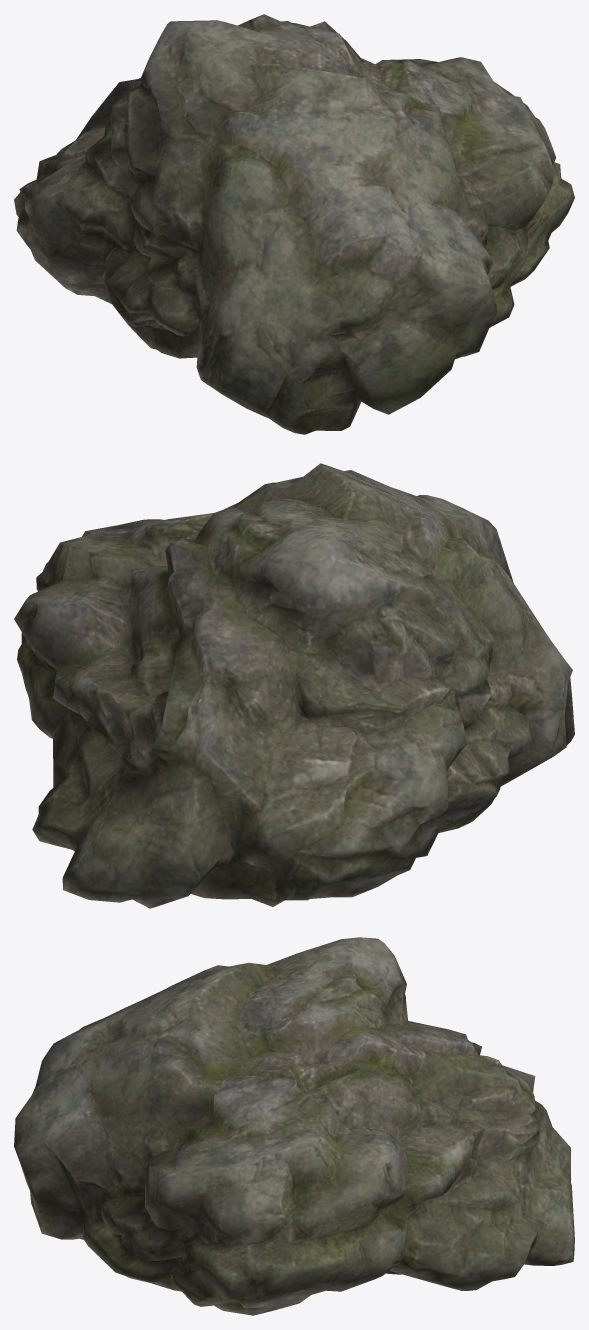
Rendered from JiaYeSi_ShanShi_2c.fbx.
3 views of the same model, one above another, from view 1: azimuth 30°, elevation 25°; view 2: azimuth 150°, elevation 25°; view 3: azimuth 270°, elevation 25° (orthographic). The views are drawn at different scales.
Visible parts, largest first — view 1: JiaYeSi_ShanShi_2c; view 2: JiaYeSi_ShanShi_2c; view 3: JiaYeSi_ShanShi_2c.
Part boxes in pixels (x1,y1,x2,y2): JiaYeSi_ShanShi_2c: [14, 14, 574, 434]; JiaYeSi_ShanShi_2c: [14, 463, 574, 908]; JiaYeSi_ShanShi_2c: [14, 937, 574, 1315].
Size of the model in its own units: 382 by 258 by 430.
